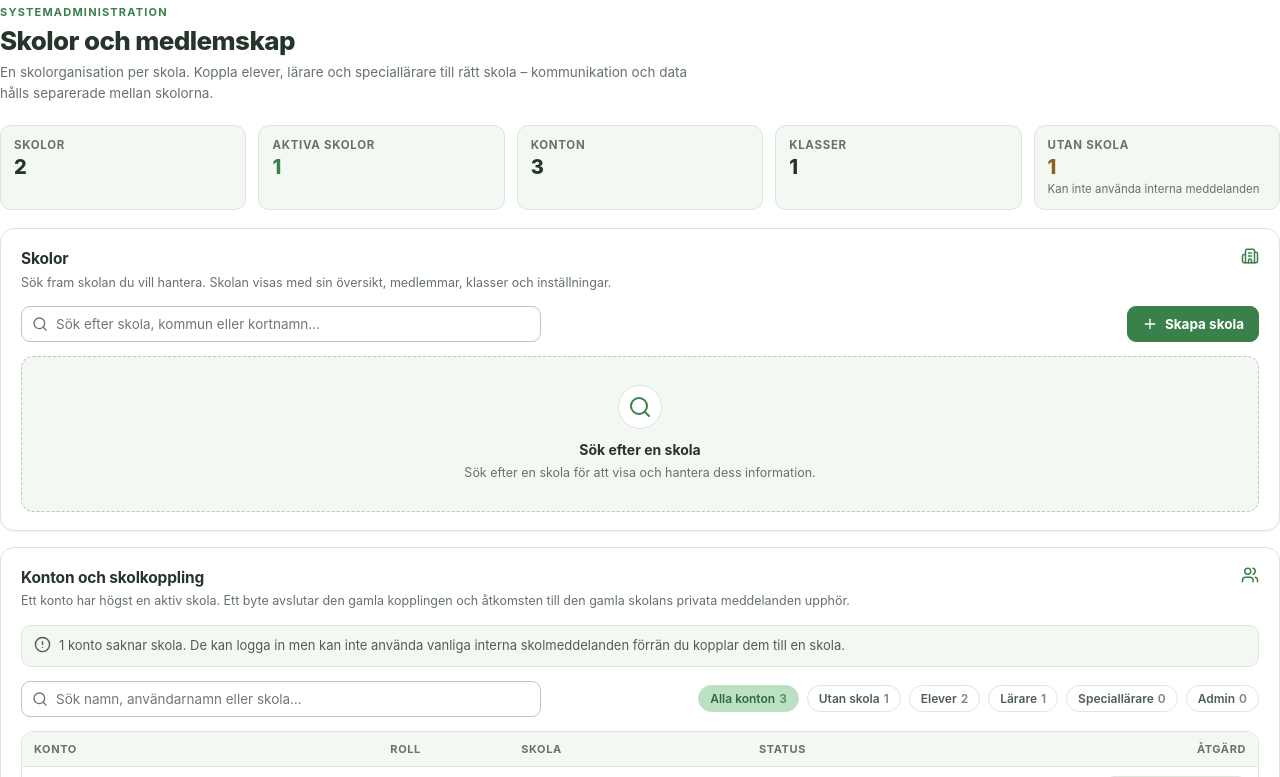
Test: AdminOrganisations › öppnar skapa skola i en dialog
Expected: the heading "Sök efter en skola" is shown, [579, 441, 701, 458]
Click the button "Skapa skola" at coordinates (1193, 324), box [1127, 306, 1259, 342]
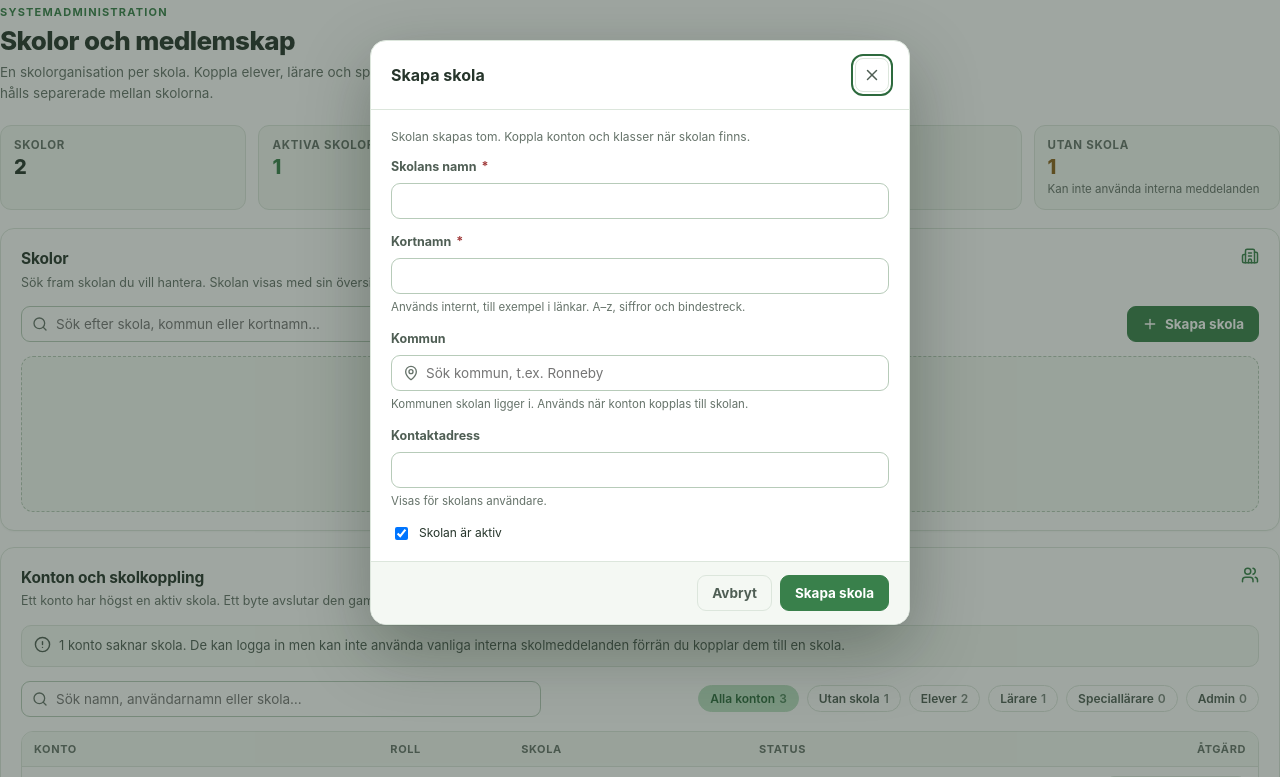
Now the dialog "Skapa skola" is shown, box [370, 40, 910, 625]
Now the field labelled "Skolans namn *" is shown, box [391, 183, 889, 219]
